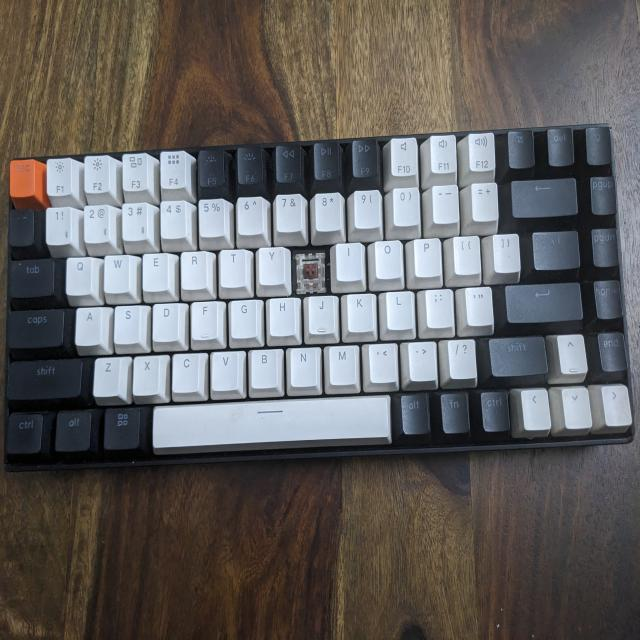C: (293, 250, 325, 291)
